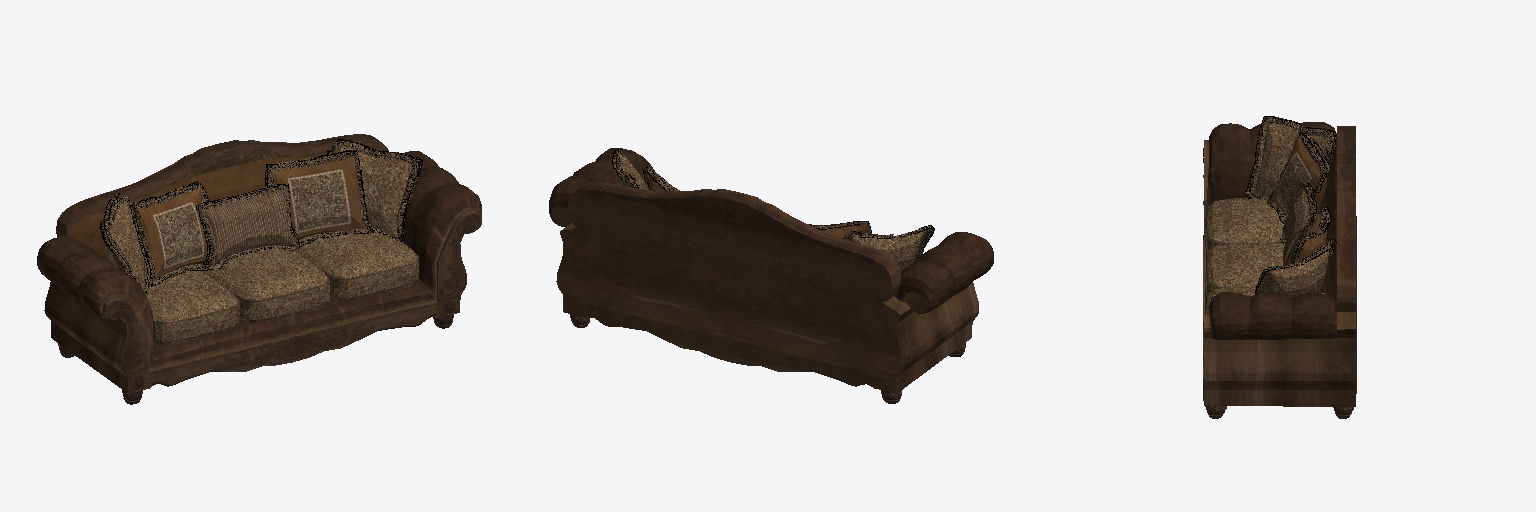
3 renders of one model, left to right at view 1: azimuth 30°, elevation 25°; view 2: azimuth 150°, elevation 25°; view 3: azimuth 270°, elevation 25°, orthographic.
Visible parts, largest first — view 1: sofa_03_Mesh.009; view 2: sofa_03_Mesh.009; view 3: sofa_03_Mesh.009.
Part boxes in pixels (bbox=[...]): sofa_03_Mesh.009: bbox=[37, 134, 481, 404]; sofa_03_Mesh.009: bbox=[549, 148, 993, 403]; sofa_03_Mesh.009: bbox=[1203, 116, 1356, 418].
Bounding box in the file's own units: 2.73 × 1.12 × 0.9251.
2 materials, 1 textured.